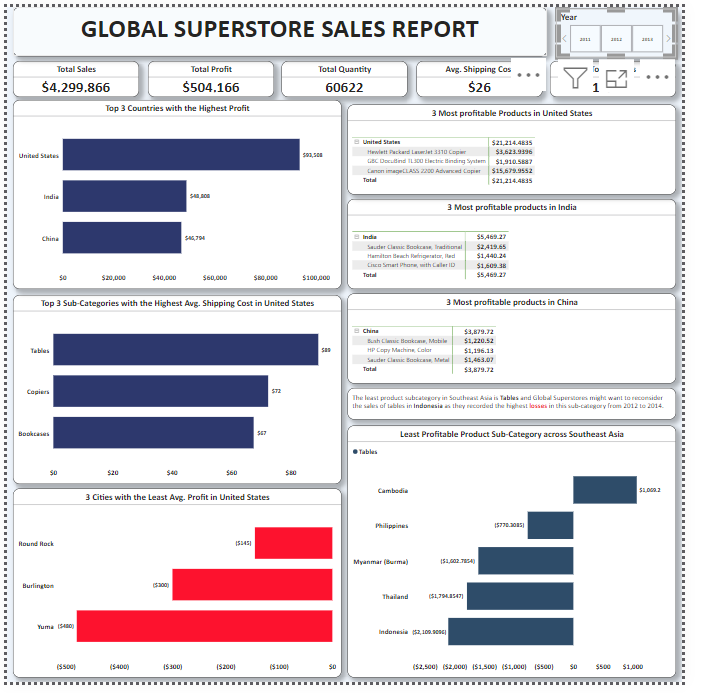

The page's visual inventory and layout, read from the dashboard file:
{"tool":"powerbi","page":{"name":"Page 1","canvas":[1500,1500],"ordinal":0},"visuals":[{"type":"slicer","title":" Year","fields":{"Values":["GlobalSuperstore - Capstone xlsx - Orders.Order Date.Variation.Date Hierarchy.Year"]},"box":[1220,3.3,266.7,110],"z":0},{"type":"barChart","title":"Top 3 Sub-Categories with the Highest Avg. Shipping Cost in United States","fields":{"Category":["GlobalSuperstore - Capstone xlsx - Orders.Sub-Category"],"Y":["Avg(GlobalSuperstore - Capstone xlsx - Orders.Shipping Cost)"]},"box":[13.3,638.5,730,420],"z":1000},{"type":"card","title":"Total Sales","fields":{"Values":["Sum(GlobalSuperstore - Capstone xlsx - Orders.Sales)"]},"box":[13.3,120,280,80],"z":2000},{"type":"card","title":"Total Profit","fields":{"Values":["Sum(GlobalSuperstore - Capstone xlsx - Orders.Profit)"]},"box":[311.7,119.9,280,80],"z":3000},{"type":"card","title":"Avg. Shipping Cost","fields":{"Values":["Avg(GlobalSuperstore - Capstone xlsx - Orders.Shipping Cost)"]},"box":[908.3,119.9,280,80],"z":4000},{"type":"card","title":"Total Quantity","fields":{"Values":["Sum(GlobalSuperstore - Capstone xlsx - Orders.Quantity)"]},"box":[610,120,280,80],"z":5000},{"type":"textbox","box":[13.3,0,1186.7,110],"z":6000},{"type":"barChart","title":"3 Cities with the Least Avg. Profit in United States","fields":{"Category":["GlobalSuperstore - Capstone xlsx - Orders.City","GlobalSuperstore - Capstone xlsx - Orders.Country"],"Y":["Avg(GlobalSuperstore - Capstone xlsx - Orders.Profit)"]},"box":[13.3,1069.7,730,420],"z":7000},{"type":"barChart","title":"Top 3 Countries with the Highest Profit","fields":{"Y":["Sum(GlobalSuperstore - Capstone xlsx - Orders.Profit)"],"Category":["GlobalSuperstore - Capstone xlsx - Orders.Country"]},"box":[13.3,207.2,730,420],"z":8000},{"type":"clusteredBarChart","title":"Least Profitable Product Sub-Category across Southeast Asia","fields":{"Category":["GlobalSuperstore - Capstone xlsx - Orders.Country"],"Y":["Sum(GlobalSuperstore - Capstone xlsx - Orders.Profit)"],"Series":["GlobalSuperstore - Capstone xlsx - Orders.Sub-Category"]},"box":[785,1500,730,430],"z":9000},{"type":"pivotTable","title":"3 Most profitable products in India","fields":{"Rows":["GlobalSuperstore - Capstone xlsx - Orders.Country","GlobalSuperstore - Capstone xlsx - Orders.Product Name"],"Values":["Sum(GlobalSuperstore - Capstone xlsx - Orders.Profit)"]},"box":[756.7,425.3,730,200],"z":10000},{"type":"pivotTable","title":"3 Most profitable Products in United States","fields":{"Rows":["GlobalSuperstore - Capstone xlsx - Orders.Country","GlobalSuperstore - Capstone xlsx - Orders.Product Name"],"Values":["Sum(GlobalSuperstore - Capstone xlsx - Orders.Profit)"]},"box":[756.7,217.8,730,200],"z":11000},{"type":"pivotTable","title":"3 Most profitable products in China","fields":{"Rows":["GlobalSuperstore - Capstone xlsx - Orders.Country","GlobalSuperstore - Capstone xlsx - Orders.Product Name"],"Values":["Sum(GlobalSuperstore - Capstone xlsx - Orders.Profit)"]},"box":[756.7,635.3,730,200],"z":12000},{"type":"card","title":"Total Orders","fields":{"Values":["CountNonNull(GlobalSuperstore - Capstone xlsx - Orders.Order ID)"]},"box":[1206.7,120,280,80],"z":13000},{"type":"clusteredBarChart","title":"Least Profitable Product Sub-Category across Southeast Asia","fields":{"Category":["GlobalSuperstore - Capstone xlsx - Orders.Country"],"Y":["Sum(GlobalSuperstore - Capstone xlsx - Orders.Profit)"],"Series":["GlobalSuperstore - Capstone xlsx - Orders.Sub-Category"]},"box":[756.8,850,729.5,640.9],"z":14000}]}

Visuals, with their boxes in screenshot pixels (x1, y1, x2, y2), scaled from the page's 1500x1500 canvas onto the 703x693 screenshot:
" Year" slicer: Rect(572, 2, 697, 52)
"Top 3 Sub-Categories with the Highest Avg. Shipping Cost in United States" barChart: Rect(6, 295, 348, 489)
"Total Sales" card: Rect(6, 55, 137, 92)
"Total Profit" card: Rect(146, 55, 277, 92)
"Avg. Shipping Cost" card: Rect(426, 55, 557, 92)
"Total Quantity" card: Rect(286, 55, 417, 92)
textbox: Rect(6, 0, 562, 51)
"3 Cities with the Least Avg. Profit in United States" barChart: Rect(6, 494, 348, 688)
"Top 3 Countries with the Highest Profit" barChart: Rect(6, 96, 348, 290)
"3 Most profitable products in India" pivotTable: Rect(355, 196, 697, 289)
"3 Most profitable Products in United States" pivotTable: Rect(355, 101, 697, 193)
"3 Most profitable products in China" pivotTable: Rect(355, 294, 697, 386)
"Total Orders" card: Rect(566, 55, 697, 92)
"Least Profitable Product Sub-Category across Southeast Asia" clusteredBarChart: Rect(355, 393, 697, 689)
